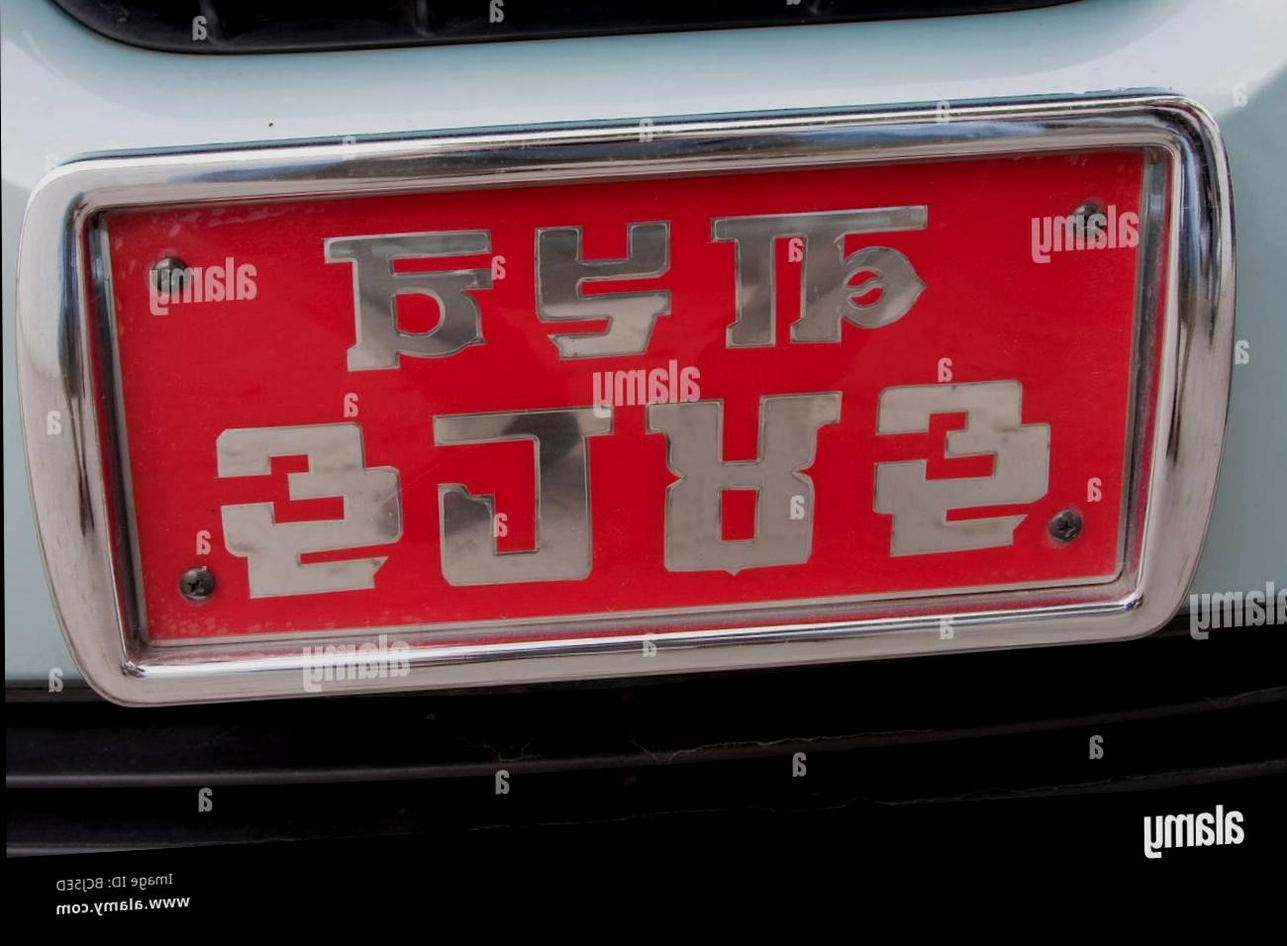License_Plate: (87, 141, 1175, 661)
